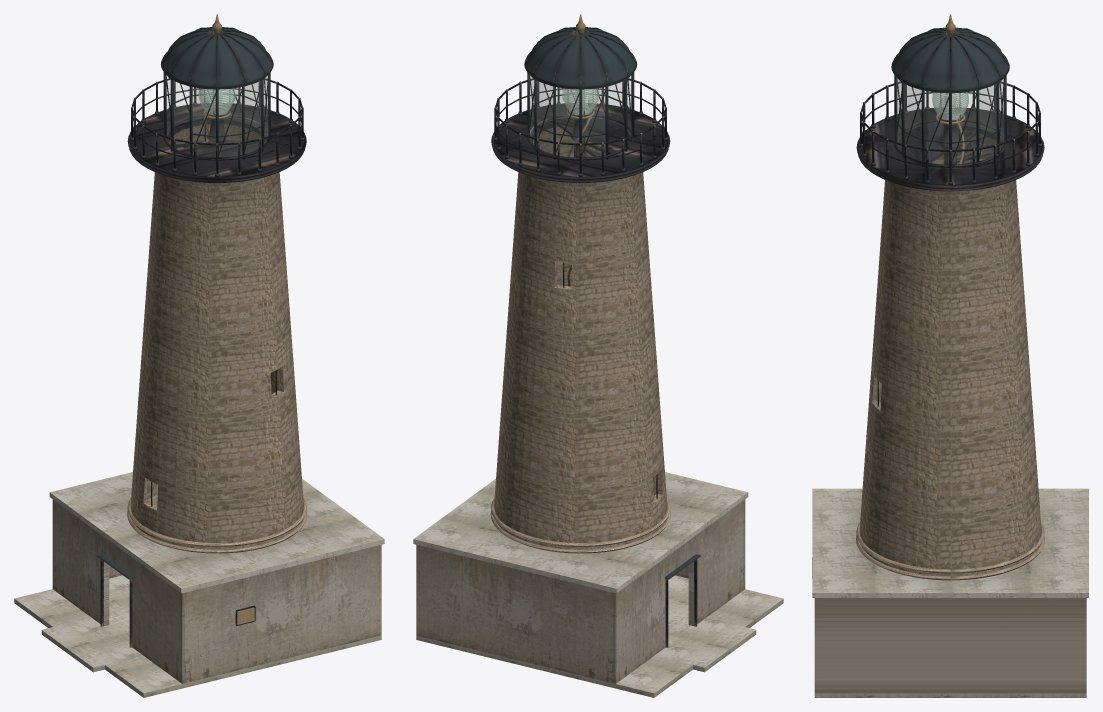
The model's file is cove-lighthouse.glb.
3 renders of one model, left to right at view 1: azimuth 30°, elevation 25°; view 2: azimuth 150°, elevation 25°; view 3: azimuth 270°, elevation 25°, orthographic. The views are drawn at different scales.
Visible parts, largest first — view 1: Frame, LampOptic; view 2: Frame, LampOptic; view 3: Frame, LampOptic.
Part boxes in pixels (left/top/right/bottom): Frame: left=14, top=14, right=384, bottom=697; LampOptic: left=198, top=88, right=235, bottom=118; Frame: left=413, top=14, right=783, bottom=697; LampOptic: left=562, top=88, right=599, bottom=118; Frame: left=812, top=14, right=1088, bottom=697; LampOptic: left=932, top=92, right=968, bottom=124.
Size of the model in its own units: 8.69 by 19.91 by 7.89.
9 materials, 4 textured.
